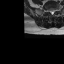CCS_normal: (51, 8, 53, 16)
LFS_normal: (54, 7, 56, 12)
LLS_normal: (53, 8, 54, 15)
RFS_stenosis: (48, 8, 49, 13)
RLS_normal: (49, 8, 51, 15)
